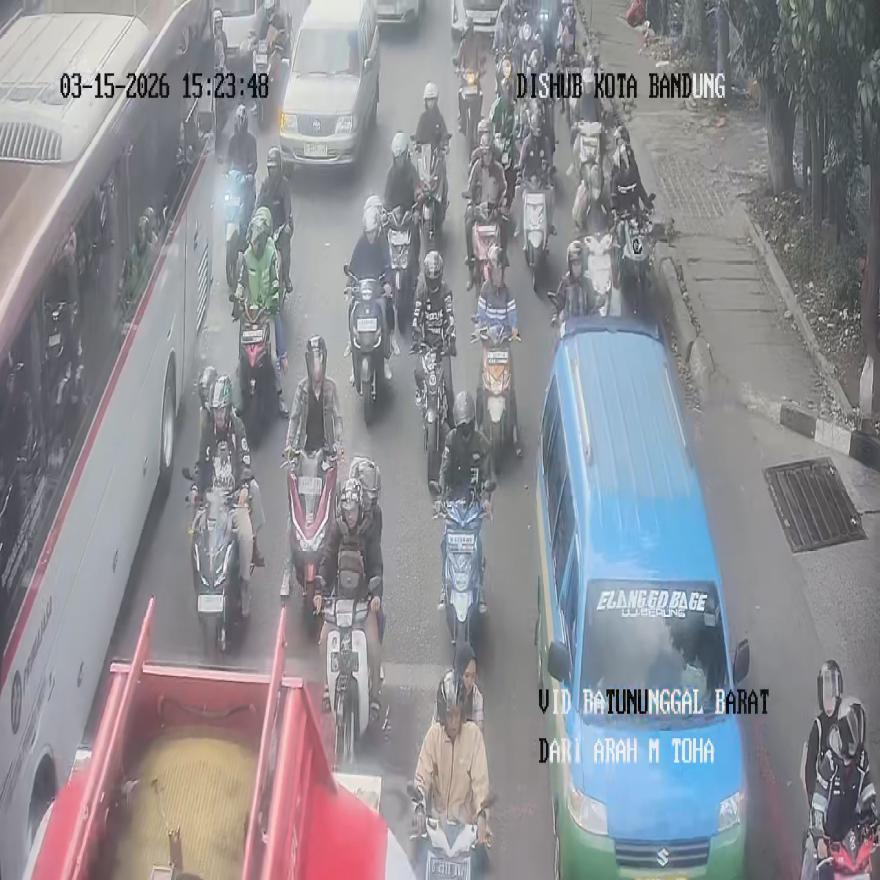Motor: (534, 316, 750, 878), (25, 595, 391, 878), (277, 0, 380, 172)
